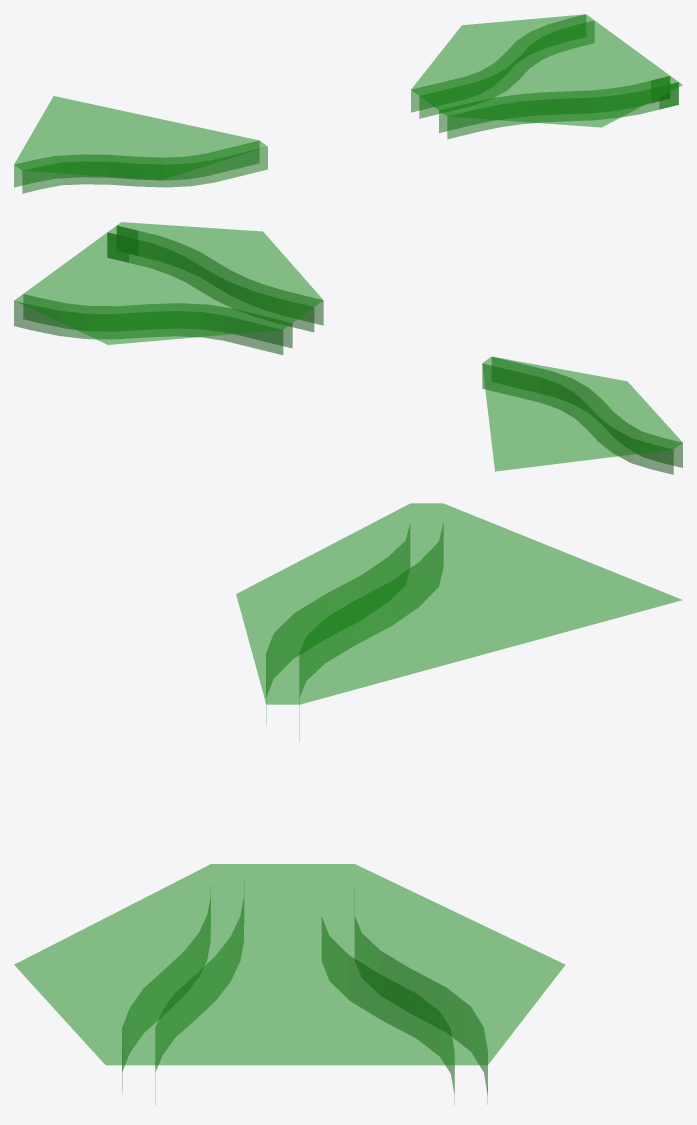
The model's file is wall_rouka.obj.
3 views of the same model, one above another, from view 1: azimuth 30°, elevation 25°; view 2: azimuth 150°, elevation 25°; view 3: azimuth 270°, elevation 25° (orthographic). The views are drawn at different scales.
Bounding box in the file's own units: 120 × 4.5 × 60.38.
